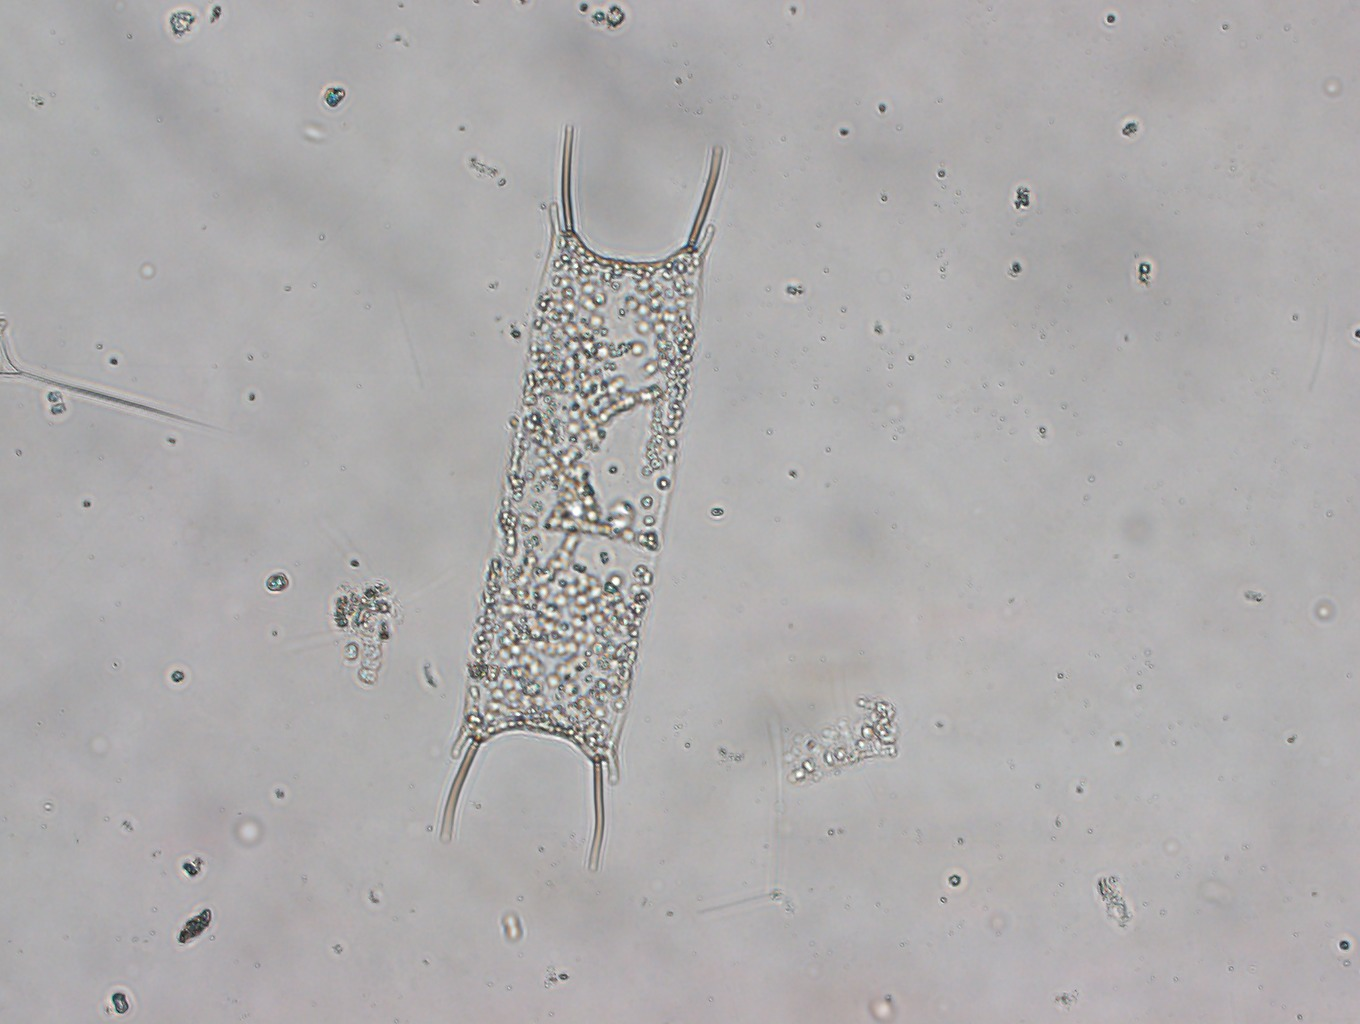biddulphia: (423, 119, 726, 874)
